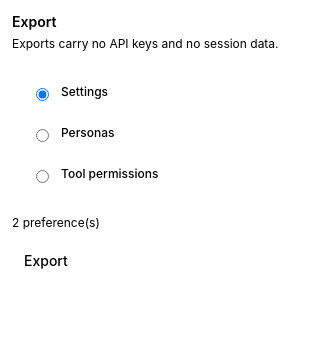
Test case: a host that refuses the write says so
Click the button "Export": {"x": 46, "y": 261} [12,243,80,279]
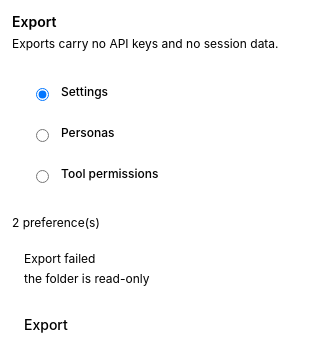
Result: the message with test id "portable-export-error" shows "Export failed" at [24,251,96,266]
Result: the message with test id "portable-export-error" shows "the folder is read-only" at [24,271,150,286]
